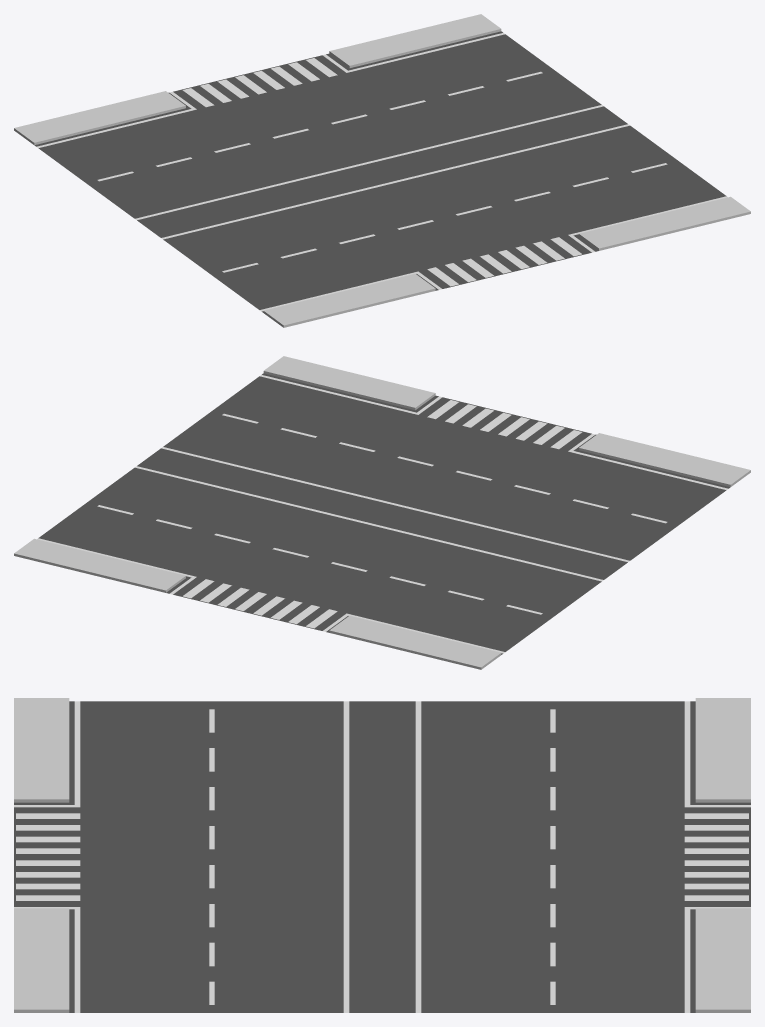
Rendered from SPW_Urban_Road 4way_2way Intersection_02.gltf.
3 views of the same model, one above another, from view 1: azimuth 30°, elevation 25°; view 2: azimuth 150°, elevation 25°; view 3: azimuth 270°, elevation 25° (orthographic). The views are drawn at different scales.
Parts seen in each view (by area): view 1: SPW_Urban_Road_4way_2way_Intersection_02; view 2: SPW_Urban_Road_4way_2way_Intersection_02; view 3: SPW_Urban_Road_4way_2way_Intersection_02.
Boxes of the visible parts, left/top/right/bottom form: SPW_Urban_Road_4way_2way_Intersection_02: left=14, top=14, right=750, bottom=327; SPW_Urban_Road_4way_2way_Intersection_02: left=14, top=356, right=750, bottom=669; SPW_Urban_Road_4way_2way_Intersection_02: left=14, top=698, right=750, bottom=1012.
Bounding box in the file's own units: 1575 × 7.87 × 1575.
1 material, 1 textured.
